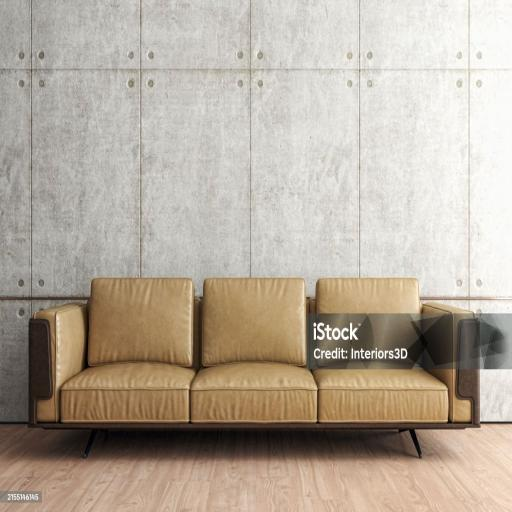back_cushion: (199, 278, 442, 368), (88, 279, 195, 366)
left_arm: (421, 303, 482, 423)
legs: (400, 430, 422, 458), (84, 430, 97, 458)
right_arm: (36, 303, 87, 422)
seat_cushion: (60, 362, 448, 427)
stallion-sofa: (28, 278, 480, 459)
